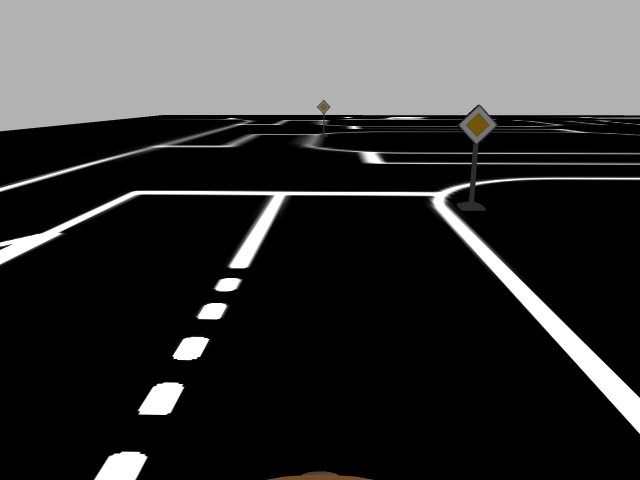priority: (458, 103, 497, 145)
